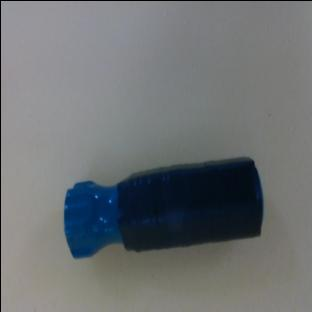part_2_bad: (57, 156, 266, 260)
